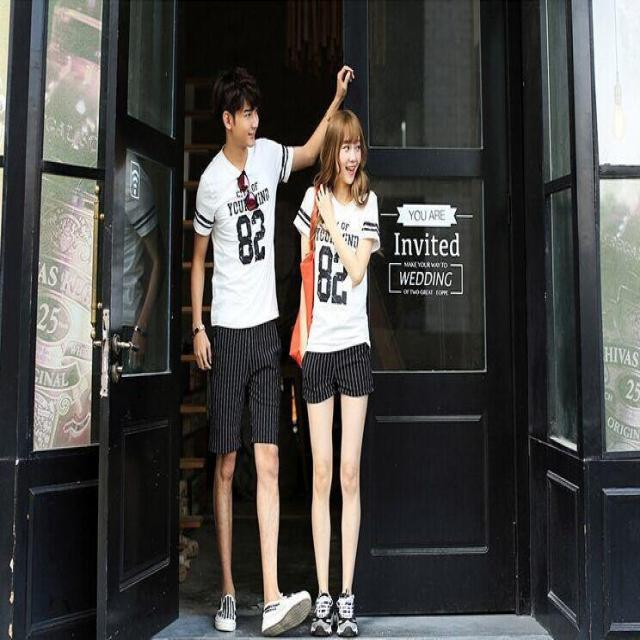short sleeve top: (194, 139, 293, 329), (294, 185, 381, 354)
shorts: (209, 291, 281, 455), (304, 323, 375, 404)
